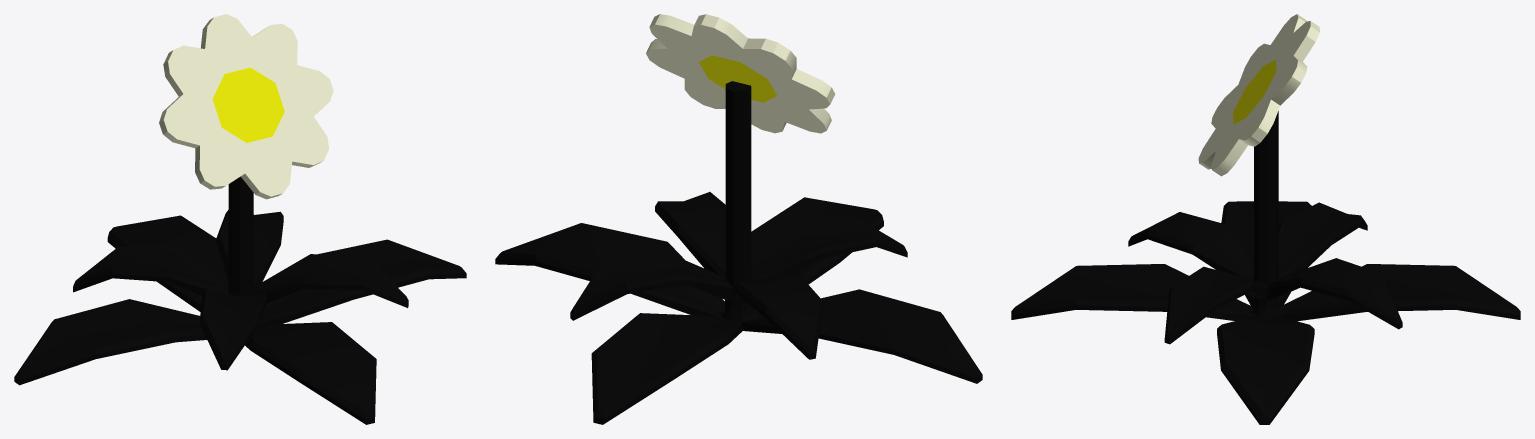
Rendered from WhiteTallFlower.fbx.
3 renders of one model, left to right at view 1: azimuth 30°, elevation 25°; view 2: azimuth 150°, elevation 25°; view 3: azimuth 270°, elevation 25°, orthographic. The views are drawn at different scales.
Parts seen in each view (by area): view 1: polySurface44; view 2: polySurface44; view 3: polySurface44.
Boxes of the visible parts, x1,y1,x2,y2 form: polySurface44: [14, 14, 466, 424]; polySurface44: [495, 14, 982, 424]; polySurface44: [1011, 14, 1520, 424].
Bounding box in the file's own units: 2.62 × 1.68 × 2.62.
